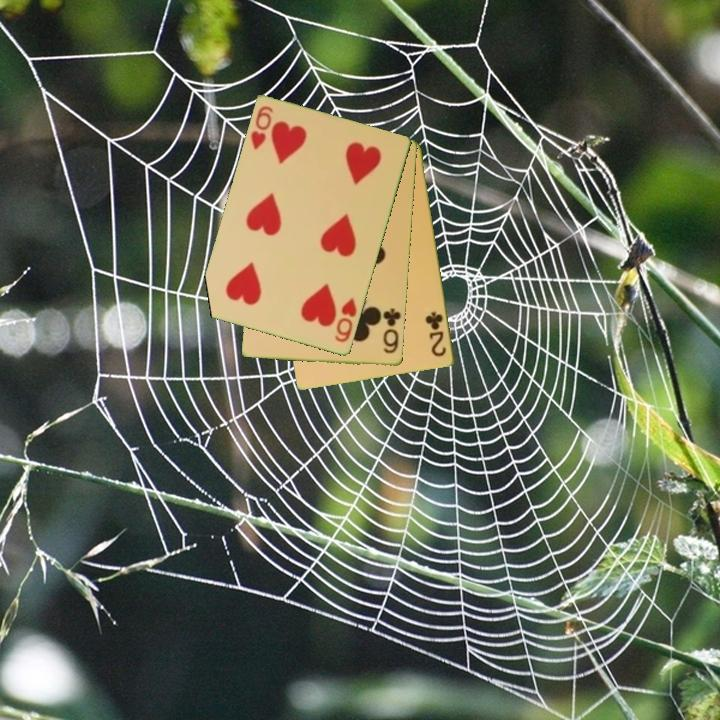2c: (422, 308, 450, 360)
6c: (380, 305, 404, 356)
6h: (331, 295, 360, 346), (247, 103, 276, 153)
